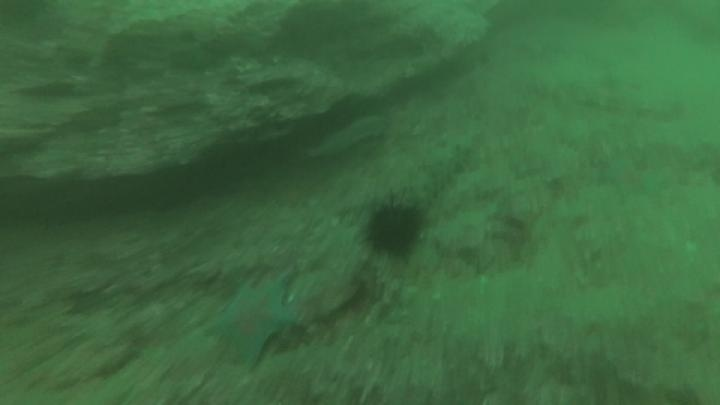echinus: (360, 194, 429, 263)
holothurian: (396, 137, 476, 211)
starfish: (205, 273, 301, 371), (596, 148, 668, 206)
